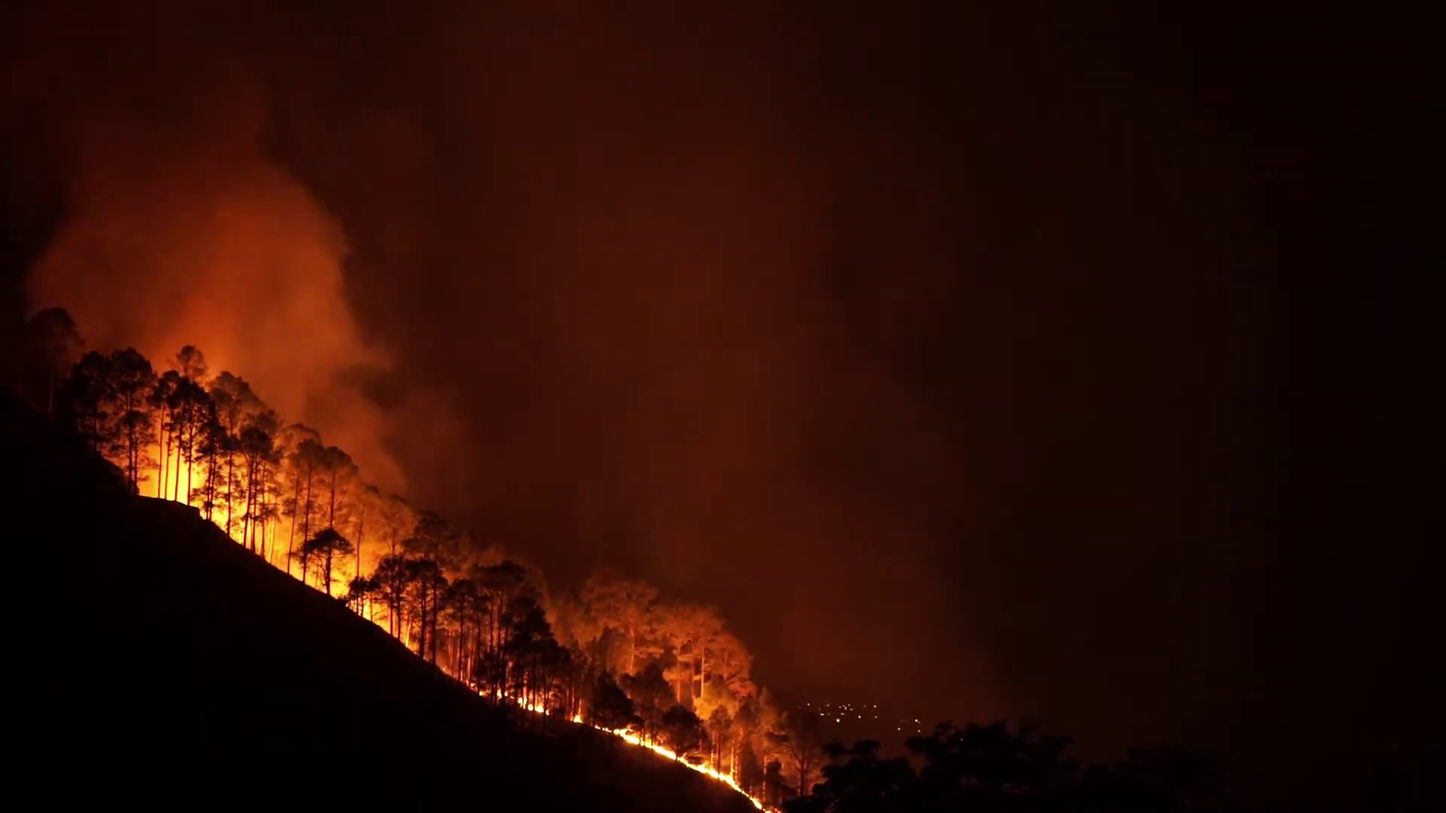forest_fire: (29, 309, 822, 808)
